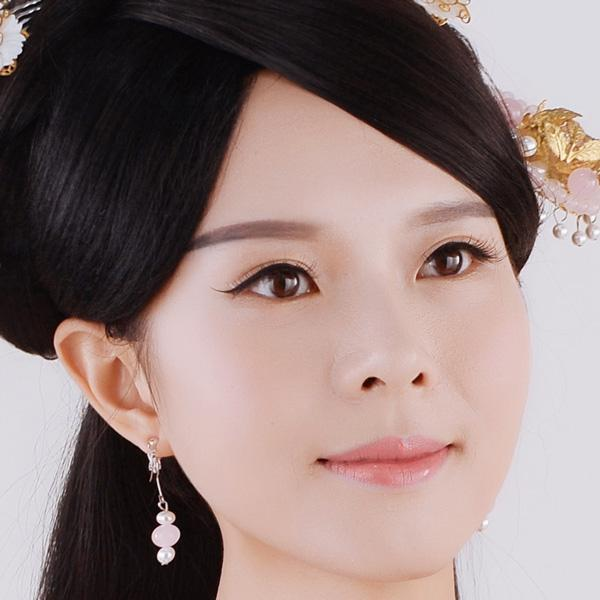Eyes: (224, 252, 327, 312), (408, 228, 498, 294)
